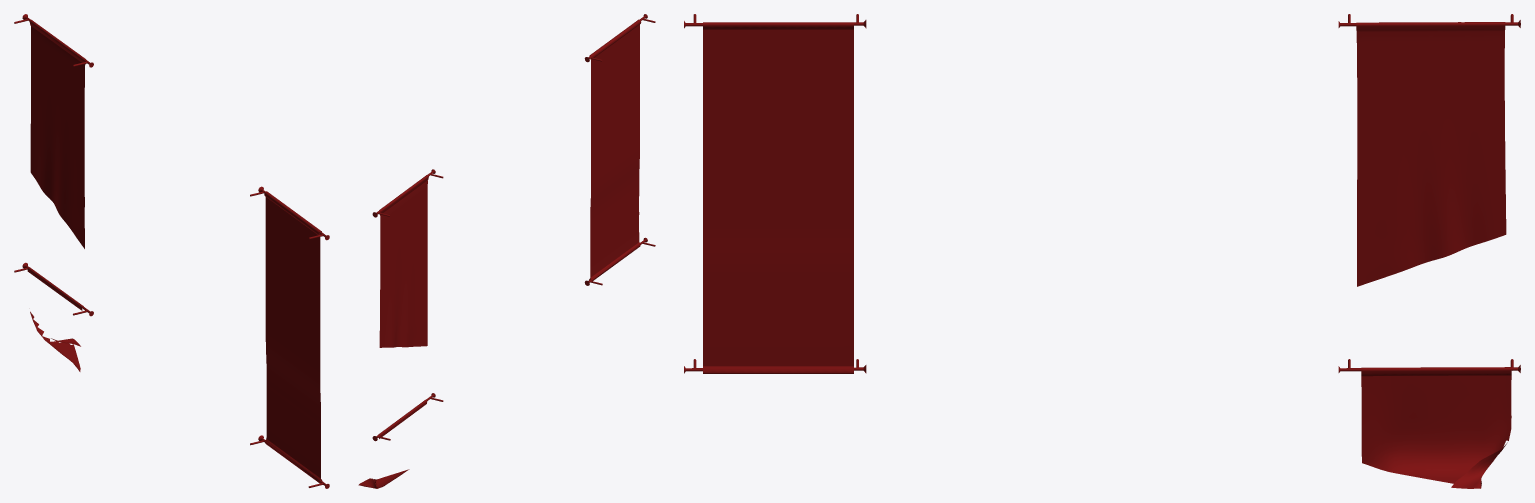
The picture shows the model from 3 angles, left to right: view 1: azimuth 30°, elevation 25°; view 2: azimuth 150°, elevation 25°; view 3: azimuth 270°, elevation 25°; orthographic projection. The views are drawn at different scales.
Parts seen in each view (by area): view 1: pCube5, tuch:Mesh; view 2: pCube5, tuch:Mesh; view 3: pCube5, tuch:Mesh.
Part boxes in pixels (bbox=[...]): pCube5: bbox=[264, 191, 322, 483]; tuch:Mesh: bbox=[27, 19, 85, 371]; pCube5: bbox=[589, 19, 641, 281]; tuch:Mesh: bbox=[358, 174, 428, 488]; pCube5: bbox=[703, 22, 853, 373]; tuch:Mesh: bbox=[1356, 22, 1511, 488].
Bounding box in the file's own units: 0.1796 × 1.18 × 2.
